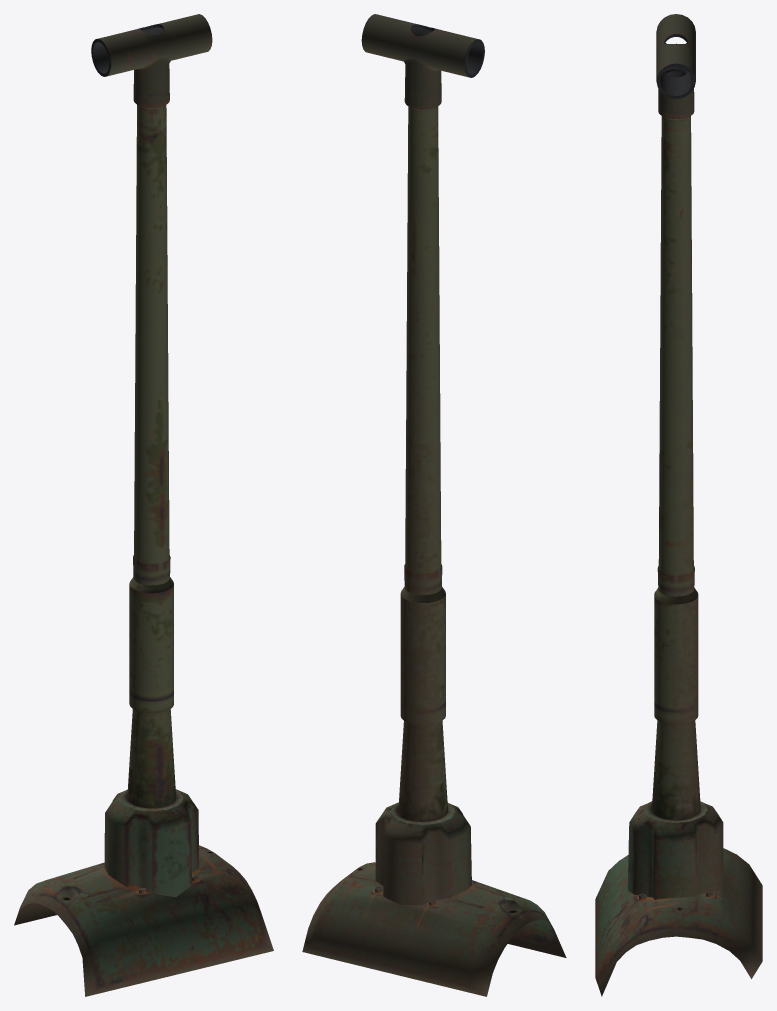
The model's file is Gun_06.glb.
3 views of the same model, side by side, from view 1: azimuth 30°, elevation 25°; view 2: azimuth 150°, elevation 25°; view 3: azimuth 270°, elevation 25° (orthographic).
Visible parts, largest first — view 1: set_0_group_0; view 2: set_0_group_0; view 3: set_0_group_0.
Part boxes in pixels (x1,y1,x2,y2): set_0_group_0: (14, 14, 273, 996); set_0_group_0: (302, 14, 566, 996); set_0_group_0: (595, 14, 762, 996).
Size of the model in its own units: 0.7765 by 3.6 by 0.595.
1 material, 1 textured.
